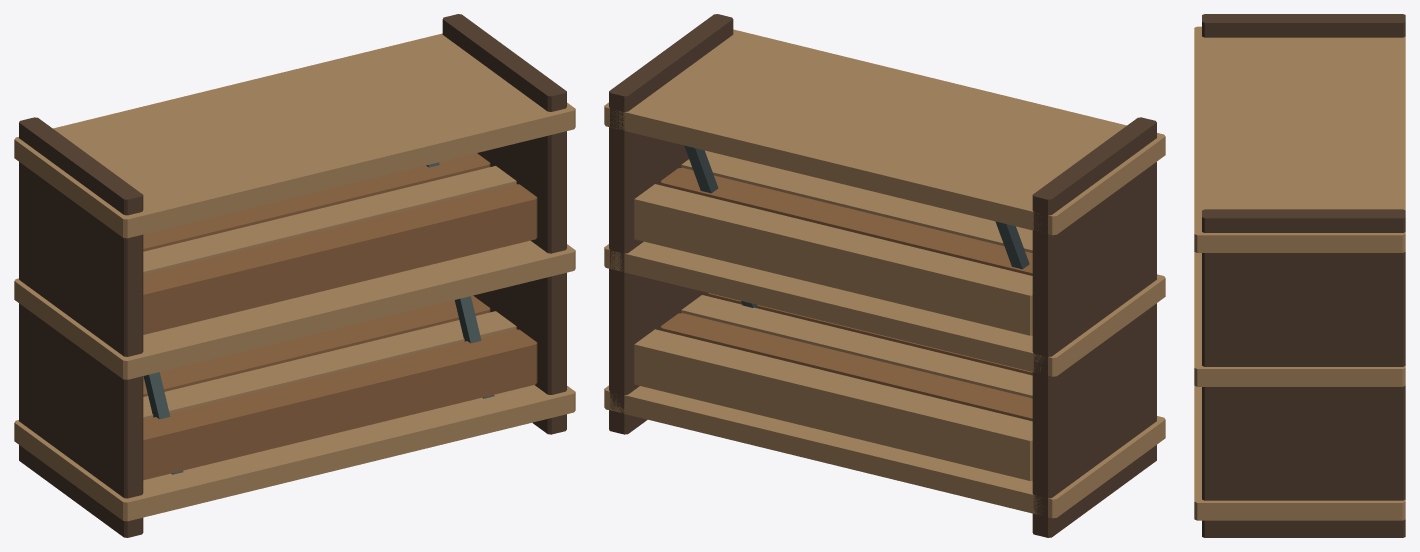
File: rack_lumber.glb
3 views of the same model, side by side, from view 1: azimuth 30°, elevation 25°; view 2: azimuth 150°, elevation 25°; view 3: azimuth 270°, elevation 25° (orthographic). The views are drawn at different scales.
Visible parts, largest first — view 1: geometry; view 2: geometry; view 3: geometry.
Part boxes in pixels (x1,y1,x2,y2): geometry: (14, 14, 575, 537); geometry: (604, 14, 1165, 537); geometry: (1194, 14, 1405, 537).
Bounding box in the file's own units: 1.89 × 1.35 × 0.81.
